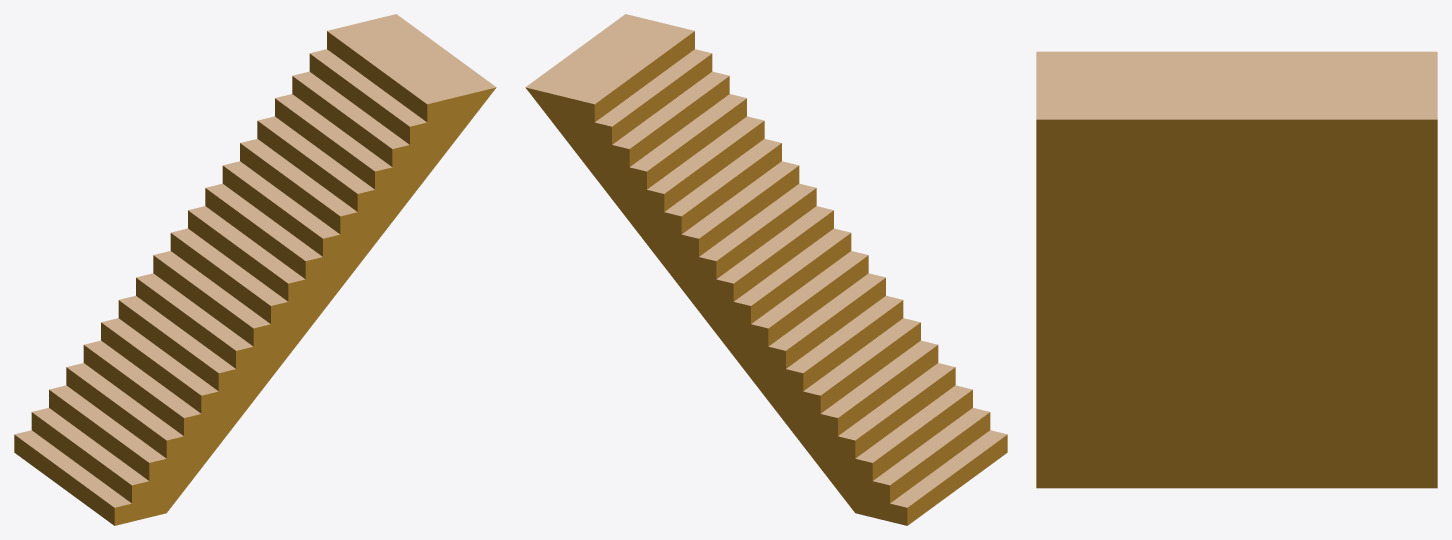
Rendered from Staircase.fbx.
3 views of the same model, side by side, from view 1: azimuth 30°, elevation 25°; view 2: azimuth 150°, elevation 25°; view 3: azimuth 270°, elevation 25° (orthographic). The views are drawn at different scales.
Parts seen in each view (by area): view 1: Staircase; view 2: Staircase; view 3: Staircase.
Boxes of the visible parts, box(x1,y1,x2,y2) form: Staircase: box(14, 14, 496, 525); Staircase: box(525, 14, 1007, 525); Staircase: box(1036, 51, 1437, 488).
Bounding box in the file's own units: 440 × 380 × 200.
